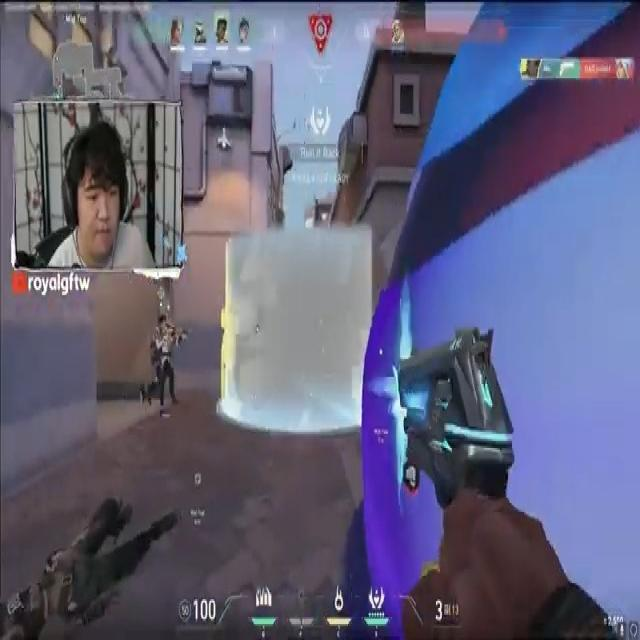ally: (142, 309, 168, 412), (161, 312, 185, 422)
smoke: (371, 9, 640, 637)
